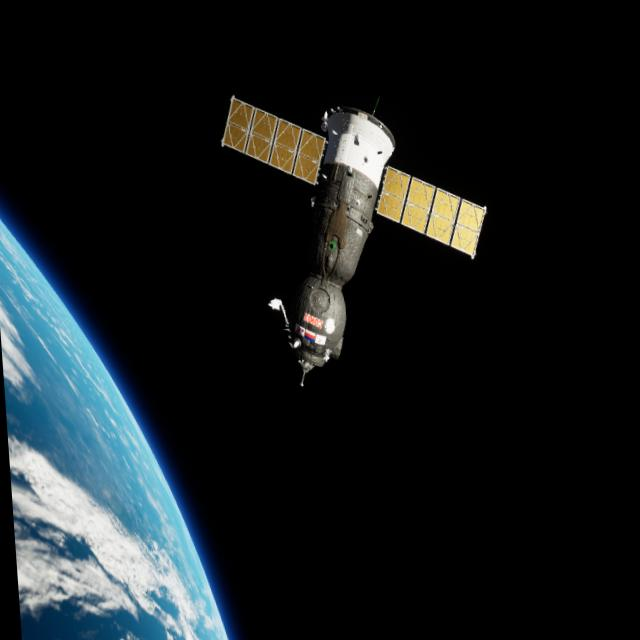Satellites revolving around earth: (0, 191, 231, 640), (215, 74, 500, 393)
